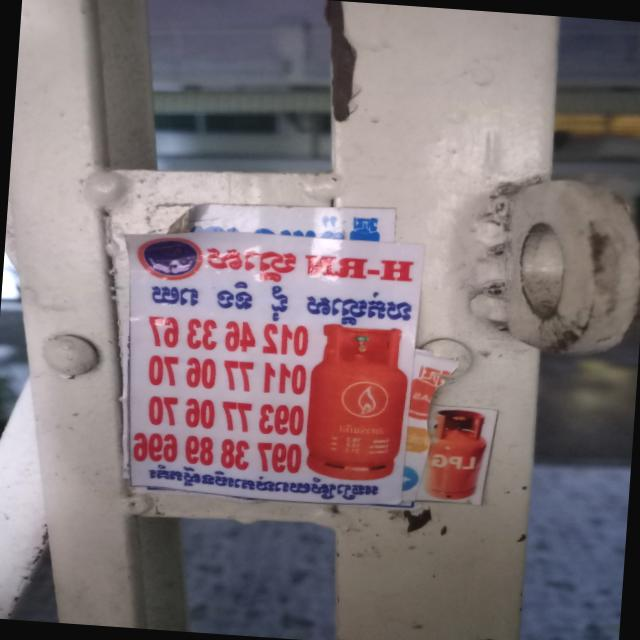239: (144, 354, 310, 397)
256: (146, 316, 310, 358)
3: (142, 277, 414, 330)
450: (146, 394, 309, 436)
473: (128, 429, 303, 474)
Yolov11kh: (142, 464, 382, 504), (200, 243, 301, 282)
